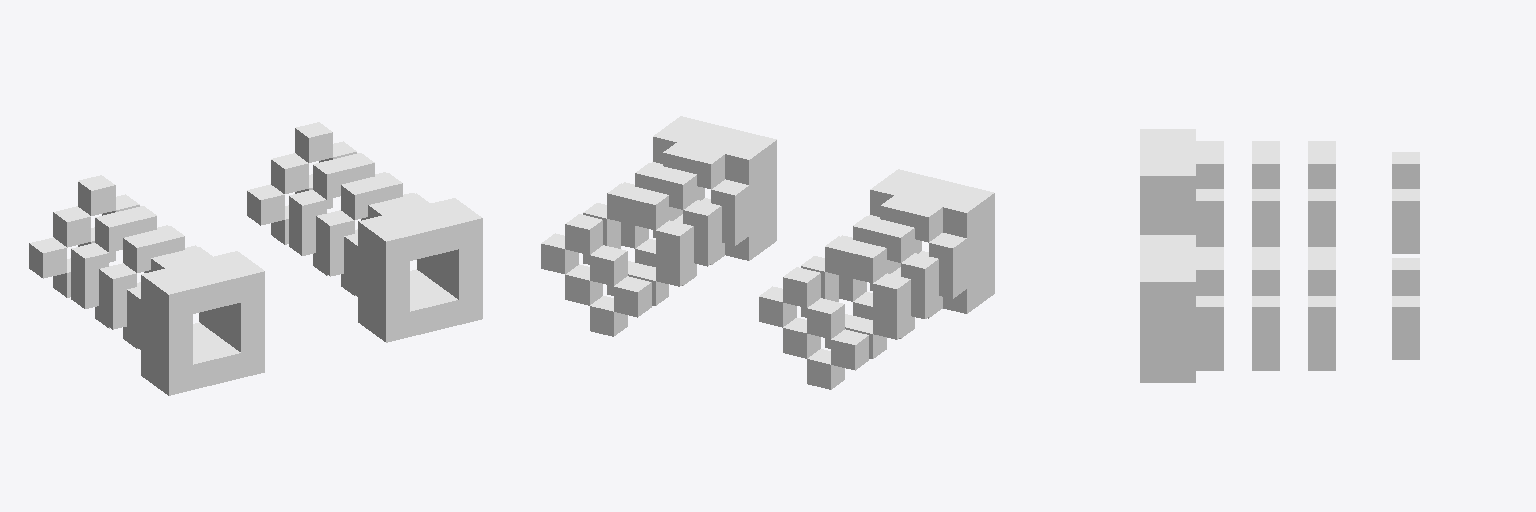
The model's file is Extra-6-DualStriker_Fire_R.obj.
3 renders of one model, left to right at view 1: azimuth 30°, elevation 25°; view 2: azimuth 150°, elevation 25°; view 3: azimuth 270°, elevation 25°, orthographic.
Visible parts, largest first — view 1: DualStriker_Fire_R; view 2: DualStriker_Fire_R; view 3: DualStriker_Fire_R.
Boxes of the visible parts, x1,y1,x2,y2 form: DualStriker_Fire_R: [29, 122, 482, 395]; DualStriker_Fire_R: [541, 116, 994, 389]; DualStriker_Fire_R: [1140, 129, 1419, 382].
Bounding box in the file's own units: 1.3 × 0.4 × 1.